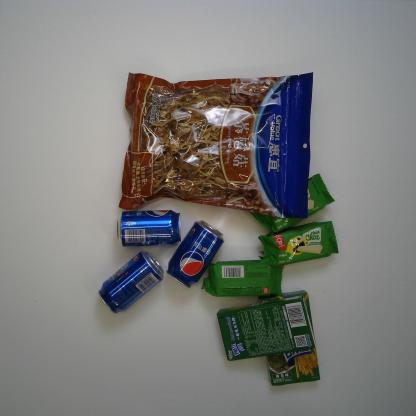Dessert: (216, 295, 318, 362), (258, 290, 321, 387), (248, 172, 336, 233), (257, 221, 339, 267), (201, 258, 284, 299)
Dried Food: (116, 70, 316, 220)
Drink: (98, 251, 165, 315), (166, 220, 225, 288), (116, 209, 182, 248)
